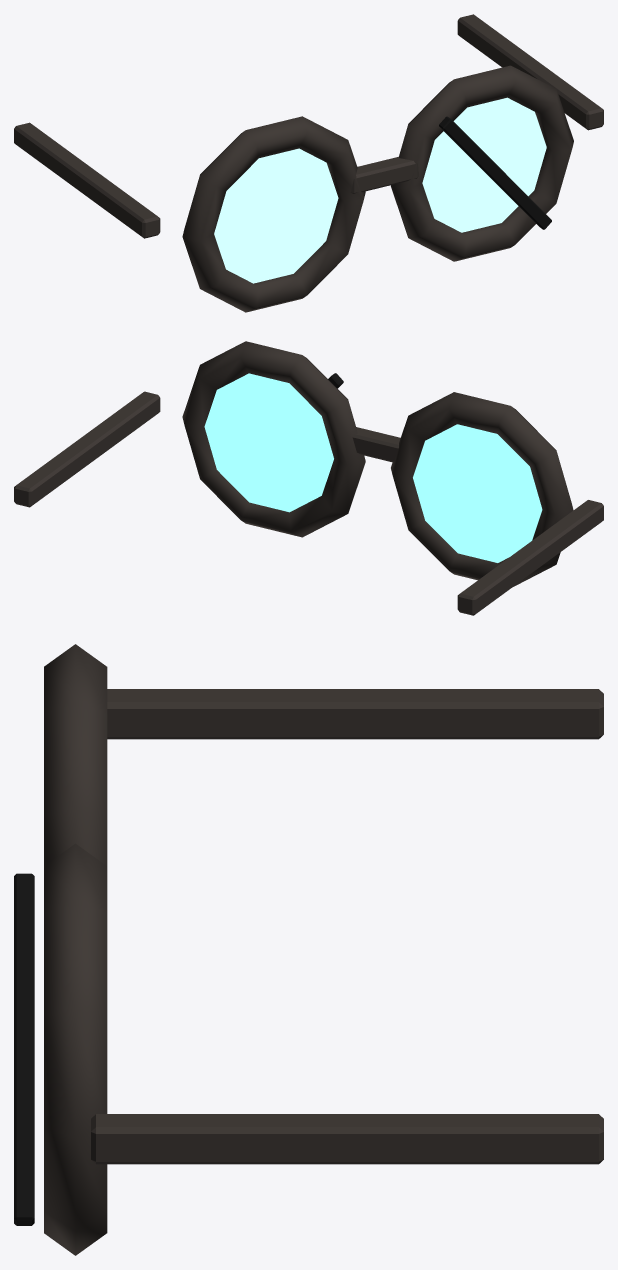
Rendered from npc_glasses_cracked.glb.
3 views of the same model, one above another, from view 1: azimuth 30°, elevation 25°; view 2: azimuth 150°, elevation 25°; view 3: azimuth 270°, elevation 25° (orthographic). The views are drawn at different scales.
Parts seen in each view (by area): view 1: part.npc_glasses_cracked; view 2: part.npc_glasses_cracked; view 3: part.npc_glasses_cracked.
Boxes of the visible parts, x1=… form: part.npc_glasses_cracked: x1=14, y1=14, x2=603, y2=312; part.npc_glasses_cracked: x1=14, y1=341, x2=603, y2=615; part.npc_glasses_cracked: x1=14, y1=644, x2=603, y2=1255.
Bounding box in the file's own units: 0.204 × 0.077 × 0.115.
